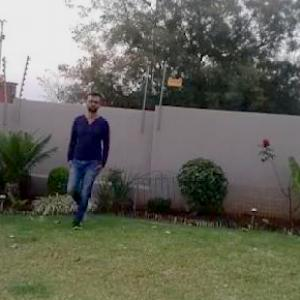follow: (62, 87, 101, 230)
